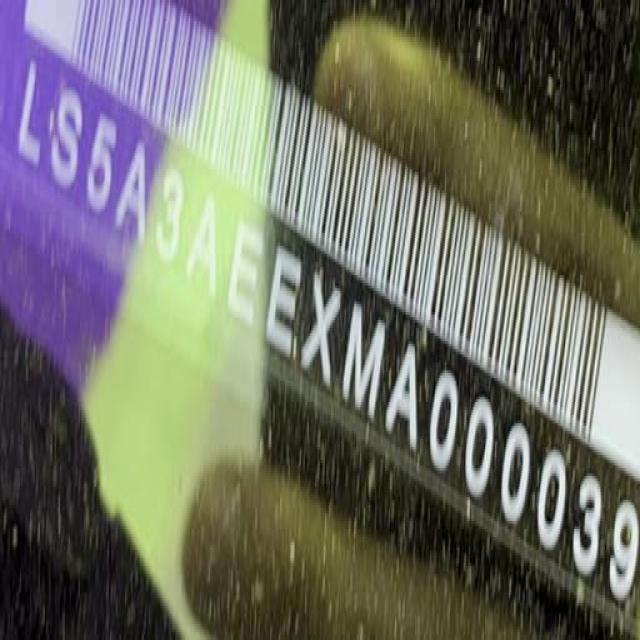0: (459, 392, 496, 508), (535, 440, 569, 559), (426, 363, 460, 477), (497, 420, 530, 536)
3: (572, 472, 604, 576), (156, 166, 185, 264)
5: (84, 112, 118, 215)
9: (607, 496, 639, 602)
A: (111, 139, 149, 249), (384, 334, 419, 452), (193, 196, 218, 301)
E: (264, 243, 301, 358), (228, 215, 264, 329)
L: (18, 49, 44, 171)
M: (342, 300, 383, 418)
S: (50, 88, 84, 191)
X: (300, 267, 342, 396)
